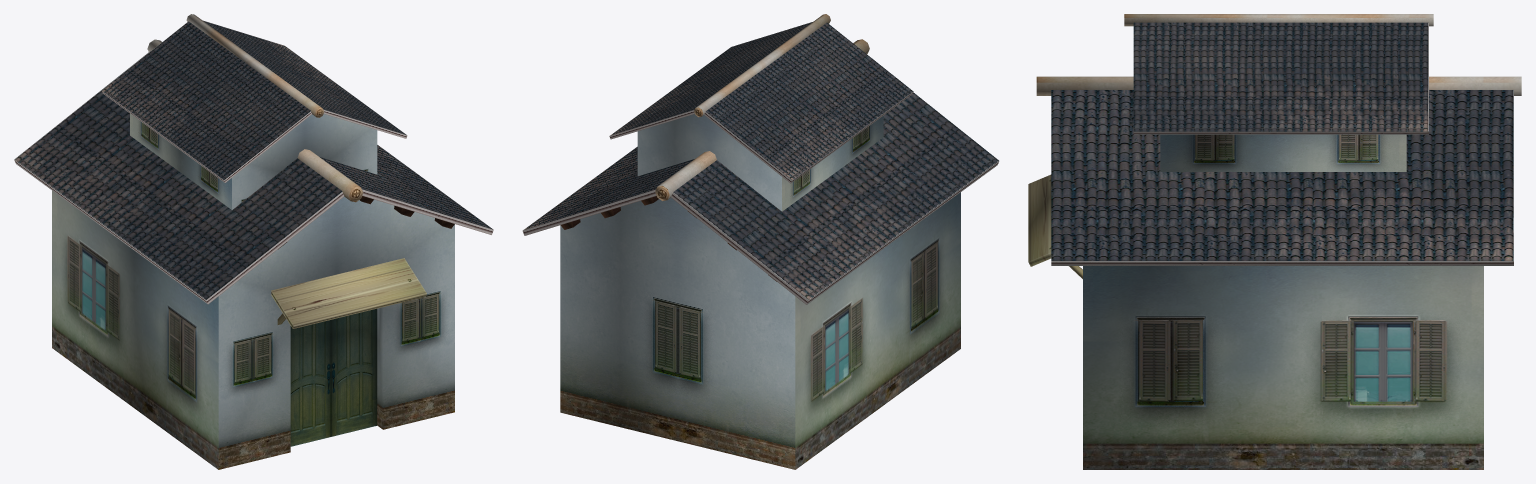
The model's file is FFP_House_02.fbx.
The picture shows the model from 3 angles, left to right: view 1: azimuth 30°, elevation 25°; view 2: azimuth 150°, elevation 25°; view 3: azimuth 270°, elevation 25°; orthographic projection. The views are drawn at different scales.
Parts seen in each view (by area): view 1: polySurface238; view 2: polySurface238; view 3: polySurface238.
Boxes of the visible parts, box(x1,y1,x2,y2) form: polySurface238: box(14, 14, 493, 469); polySurface238: box(522, 14, 999, 469); polySurface238: box(1028, 14, 1521, 469).
Size of the model in its own units: 14.13 by 15.04 by 17.4.
